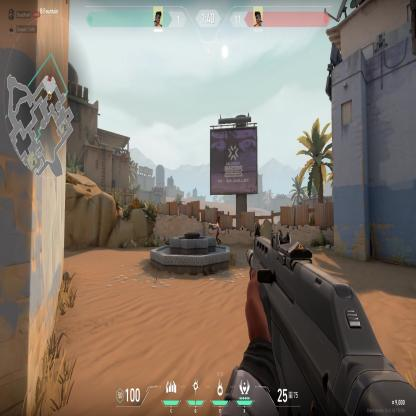enemy: (211, 218, 220, 237)
